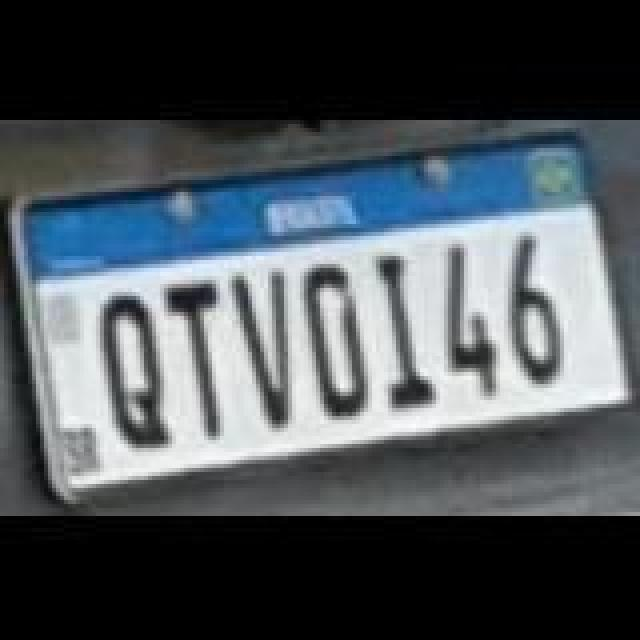4: (442, 240, 502, 400)
6: (500, 232, 564, 392)
D: (300, 260, 364, 428)
I: (362, 250, 438, 406)
Q: (94, 286, 162, 450)
T: (164, 270, 228, 434)
U: (232, 270, 296, 434)
